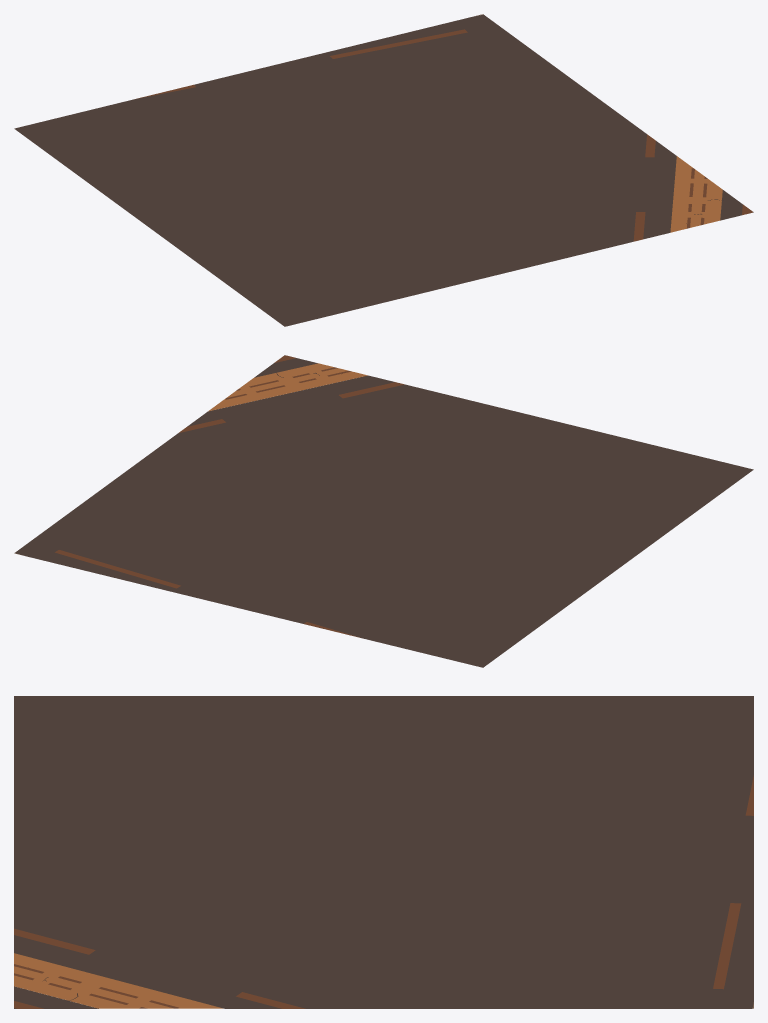
Rendered from crossing-9-4.glb.
3 views of the same model, one above another, from view 1: azimuth 30°, elevation 25°; view 2: azimuth 150°, elevation 25°; view 3: azimuth 270°, elevation 25° (orthographic). The views are drawn at different scales.
Visible parts, largest first — view 1: crossing-9-4; view 2: crossing-9-4; view 3: crossing-9-4.
Part boxes in pixels (x1=…): crossing-9-4: x1=14, y1=14, x2=753, y2=326; crossing-9-4: x1=14, y1=355, x2=753, y2=667; crossing-9-4: x1=14, y1=696, x2=753, y2=1008.
Bounding box in the file's own units: 100 × 0.0115 × 100.
